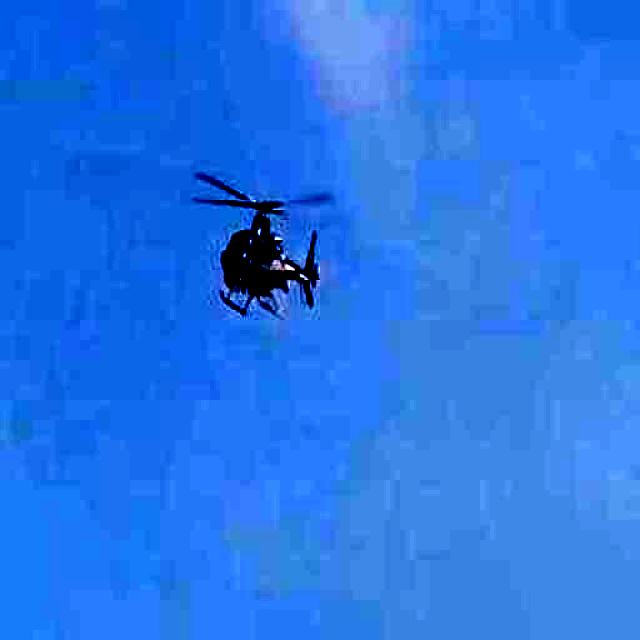drone: (134, 149, 358, 345)
